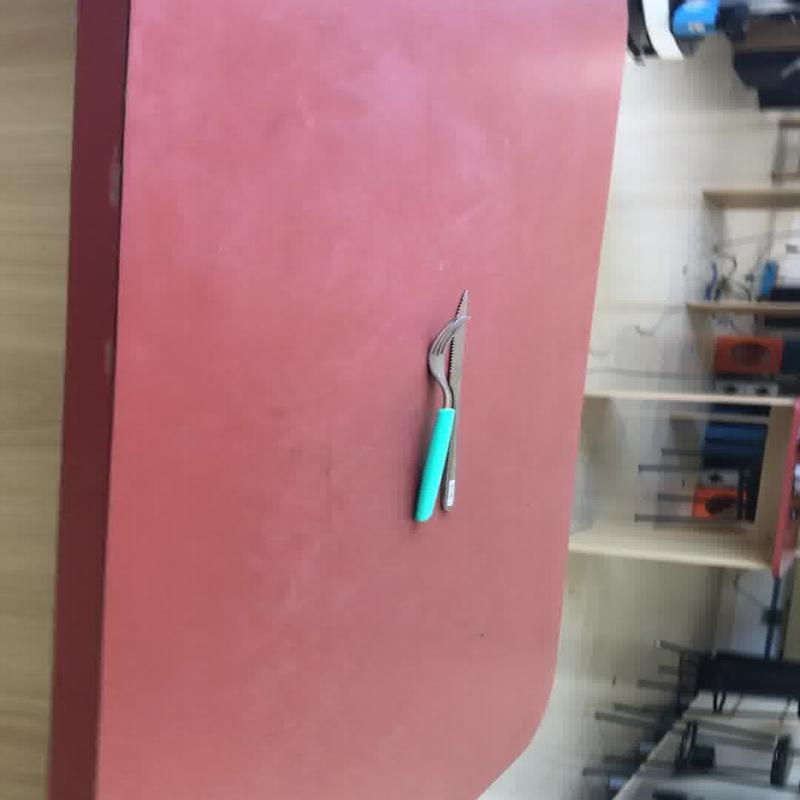fork: (412, 288, 470, 522)
knife: (411, 288, 470, 521)
